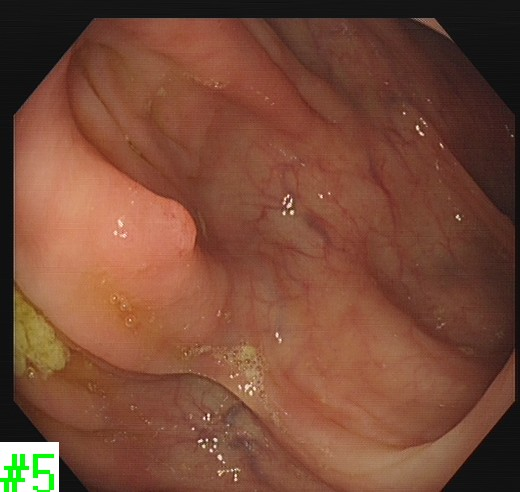adenoma: (138, 191, 200, 263)
